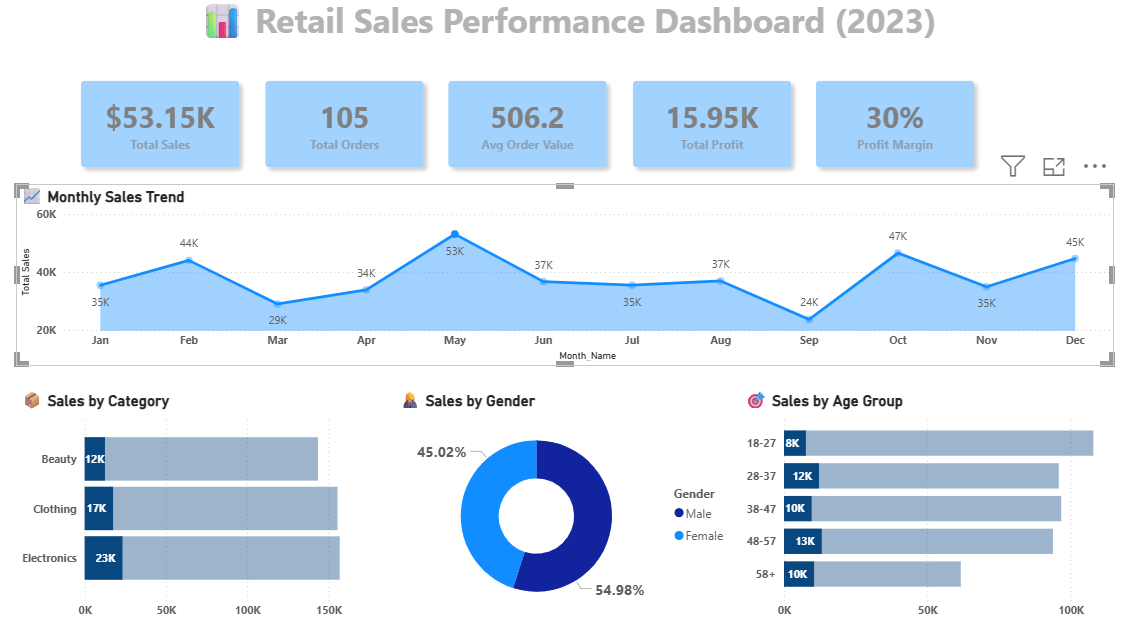

The page's visual inventory and layout, read from the dashboard file:
{"tool":"powerbi","page":{"name":"Page 1","canvas":[1280,720],"ordinal":0},"visuals":[{"type":"cardVisual","fields":{"Data":["retail_dw fact_sales.Total Sales"]},"box":[76.7,76.7,220,140],"z":0},{"type":"cardVisual","fields":{"Data":["retail_dw fact_sales.Total Orders"]},"box":[280.8,76.7,220,140],"z":1000},{"type":"cardVisual","fields":{"Data":["retail_dw fact_sales.Avg Order Value"]},"box":[485,76.7,220,140],"z":2000},{"type":"cardVisual","fields":{"Data":["retail_dw fact_sales.Profit Margin"]},"box":[893.3,76.7,220,140],"z":3000},{"type":"cardVisual","fields":{"Data":["retail_dw fact_sales.Total Profit"]},"box":[689.2,76.7,220,140],"z":4000},{"type":"lineChart","title":"📈 Monthly Sales Trend","fields":{"Y":["retail_dw fact_sales.Total Sales"],"Category":["retail_dw dim_date.Month_Name"]},"box":[25.9,213.7,1220.9,200.8],"z":5000},{"type":"barChart","title":"📦 Sales by Category","fields":{"Category":["retail_dw dim_product.Product_Category"],"Y":["retail_dw fact_sales.Total Sales"]},"box":[25.9,440,420,265],"z":6000},{"type":"donutChart","title":"👩💼 Sales by Gender","fields":{"Category":["retail_dw dim_customer.Gender"],"Y":["retail_dw fact_sales.Sales %"]},"box":[446,440,381.7,264.6],"z":7000},{"type":"barChart","title":"🎯 Sales by Age Group","fields":{"Category":["retail_dw dim_customer.Age_Group"],"Y":["retail_dw fact_sales.Total Sales"]},"box":[831.7,440,448.3,265],"z":8000},{"type":"textbox","box":[0,0,1280,88.6],"z":9000}]}

Visuals, with their boxes in screenshot pixels (x1, y1, x2, y2), scaled from the page's 1280x720 canvas onto the 1141x635 screenshot:
cardVisual - retail_dw fact_sales.Total Sales: {"left": 68, "top": 68, "right": 264, "bottom": 191}
cardVisual - retail_dw fact_sales.Total Orders: {"left": 250, "top": 68, "right": 446, "bottom": 191}
cardVisual - retail_dw fact_sales.Avg Order Value: {"left": 432, "top": 68, "right": 628, "bottom": 191}
cardVisual - retail_dw fact_sales.Profit Margin: {"left": 796, "top": 68, "right": 992, "bottom": 191}
cardVisual - retail_dw fact_sales.Total Profit: {"left": 614, "top": 68, "right": 810, "bottom": 191}
"📈 Monthly Sales Trend" lineChart: {"left": 23, "top": 188, "right": 1111, "bottom": 366}
"📦 Sales by Category" barChart: {"left": 23, "top": 388, "right": 397, "bottom": 622}
"👩💼 Sales by Gender" donutChart: {"left": 398, "top": 388, "right": 738, "bottom": 621}
"🎯 Sales by Age Group" barChart: {"left": 741, "top": 388, "right": 1140, "bottom": 622}
textbox: {"left": 0, "top": 0, "right": 1140, "bottom": 78}
